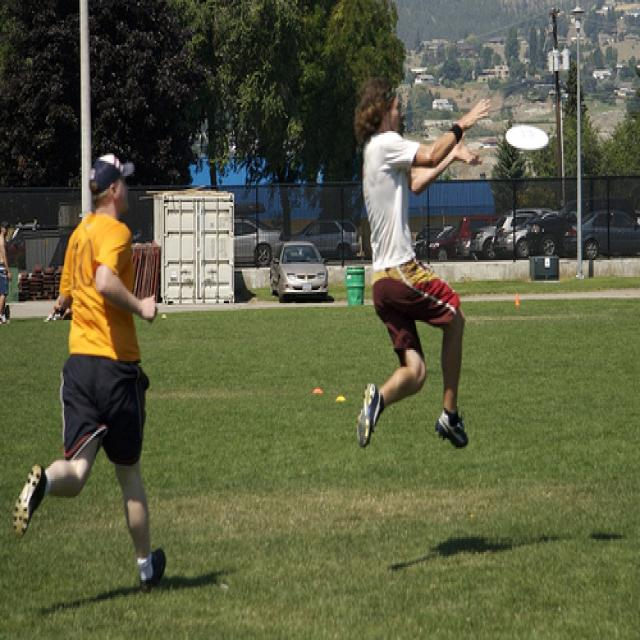Vehicle: (528, 198, 636, 257), (471, 207, 560, 260), (268, 240, 330, 306), (563, 212, 640, 260), (287, 220, 360, 260), (500, 212, 560, 260), (235, 212, 281, 266), (492, 211, 543, 258), (428, 224, 471, 262), (460, 216, 500, 239)
